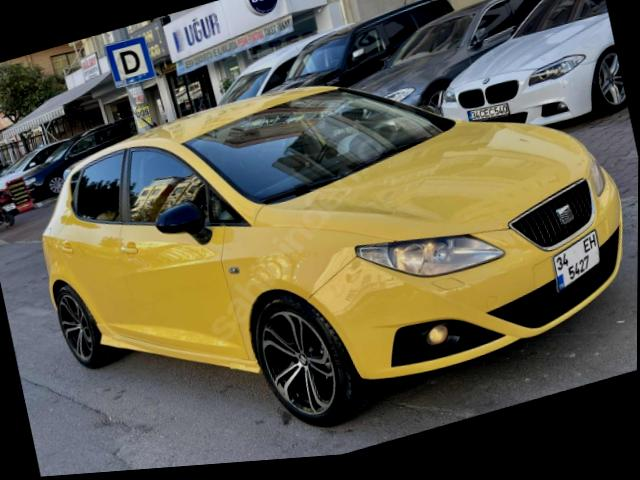plaka: (552, 229, 599, 292), (468, 103, 508, 120)
